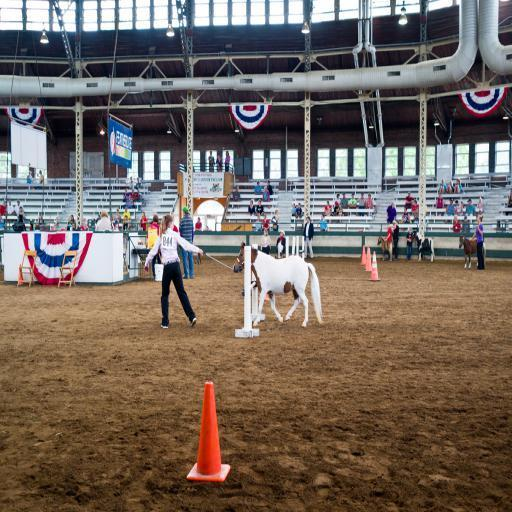horse: (230, 242, 325, 328), (458, 234, 486, 270), (410, 230, 436, 261), (376, 234, 394, 262)
